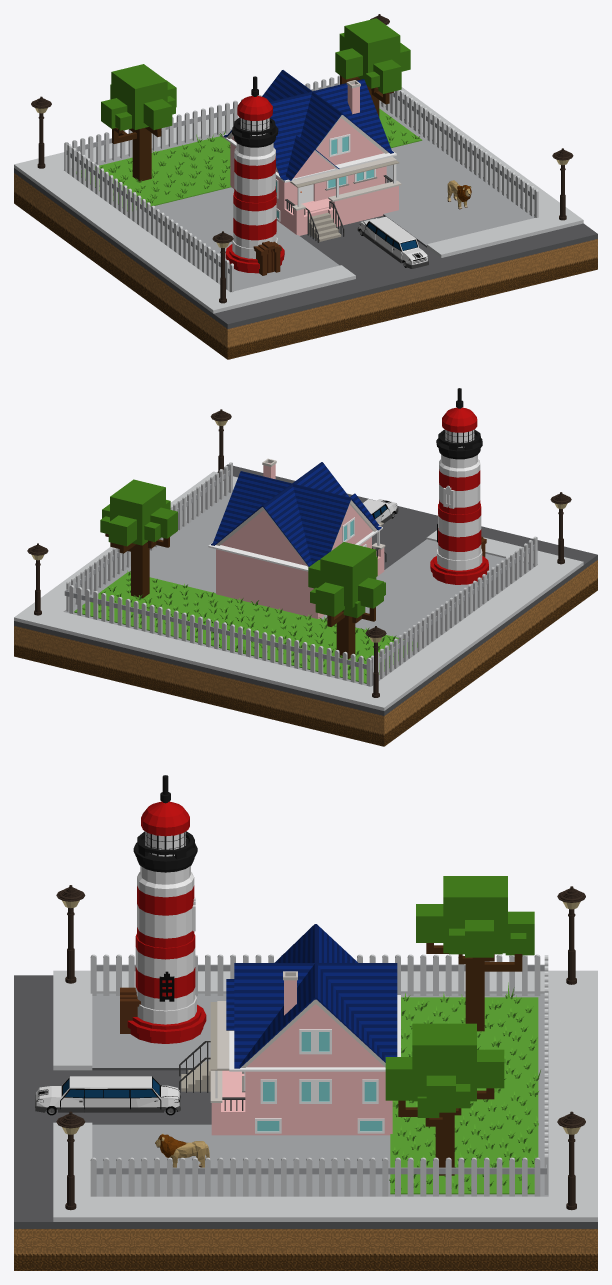
The picture shows the model from 3 angles, top to bottom: view 1: azimuth 30°, elevation 25°; view 2: azimuth 150°, elevation 25°; view 3: azimuth 270°, elevation 25°; orthographic projection. The views are drawn at different scales.
Visible parts, largest first — view 1: Cube.004, Cube.313, OBJRANDOM_LIGHTHOUSE, VEHICLES_LIMOUSINE, ANIMAL_LEON; view 2: Cube.004, Cube.313, OBJRANDOM_LIGHTHOUSE, VEHICLES_LIMOUSINE; view 3: Cube.004, Cube.313, OBJRANDOM_LIGHTHOUSE, VEHICLES_LIMOUSINE, ANIMAL_LEON.
Boxes of the visible parts, bbox=[...] form: Cube.004: bbox=[14, 14, 597, 359]; Cube.313: bbox=[222, 70, 401, 242]; OBJRANDOM_LIGHTHOUSE: bbox=[225, 76, 284, 275]; VEHICLES_LIMOUSINE: bbox=[357, 216, 428, 268]; ANIMAL_LEON: bbox=[447, 180, 471, 209]; Cube.004: bbox=[14, 409, 597, 746]; Cube.313: bbox=[208, 458, 386, 618]; OBJRANDOM_LIGHTHOUSE: bbox=[430, 388, 488, 584]; VEHICLES_LIMOUSINE: bbox=[363, 499, 398, 523]; Cube.004: bbox=[14, 876, 597, 1270]; Cube.313: bbox=[179, 924, 400, 1135]; OBJRANDOM_LIGHTHOUSE: bbox=[120, 775, 206, 1043]; VEHICLES_LIMOUSINE: bbox=[35, 1076, 180, 1115]; ANIMAL_LEON: bbox=[155, 1133, 209, 1167].
Bounding box in the file's own units: 4000 × 2319 × 4000.
Materials: 39 (4 with a texture image).
